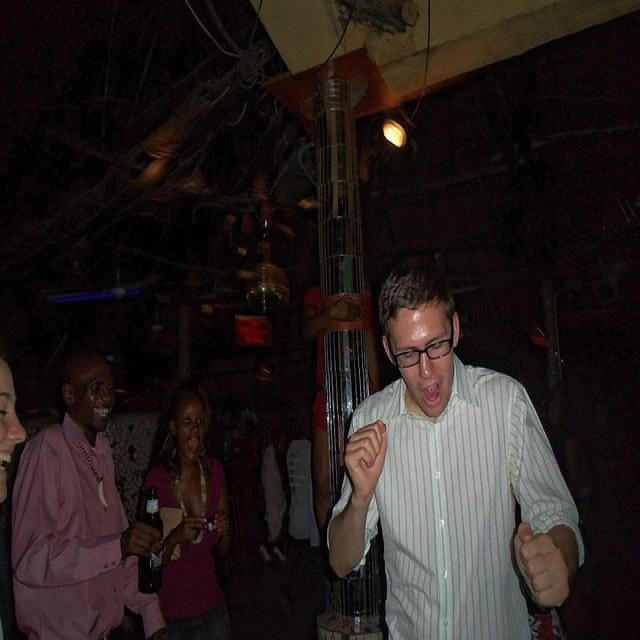Bottle: (140, 482, 170, 597)
People: (326, 257, 582, 640), (14, 336, 166, 639), (124, 372, 230, 636), (295, 244, 387, 524), (0, 345, 27, 640)
